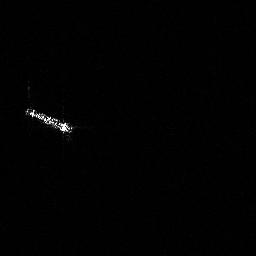ship: (22, 104, 76, 138)
